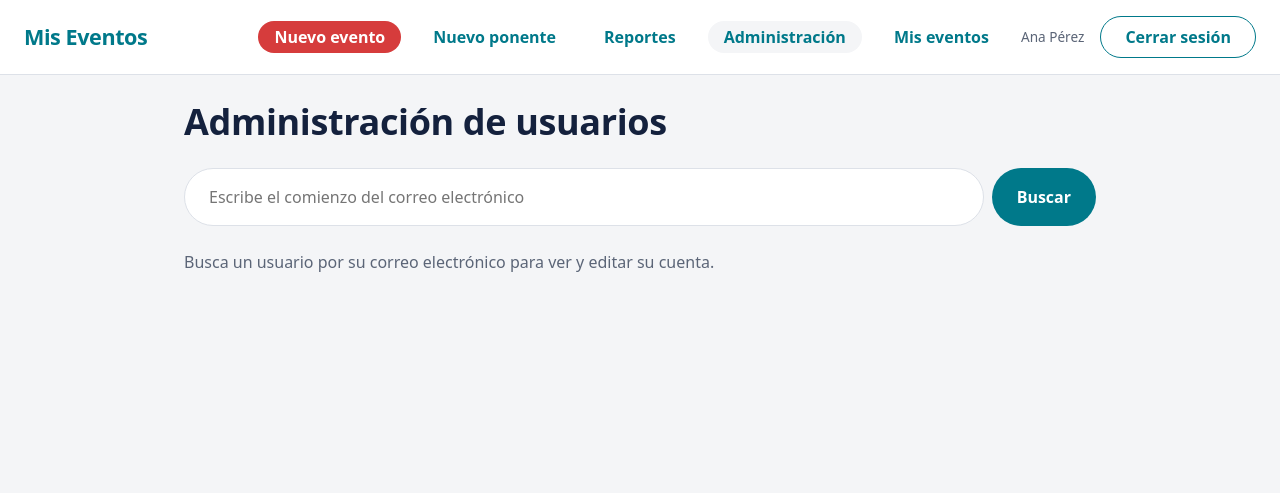
Scenario: AdminUsersPage search › loads the requested page of the same search with the pagination controls
Type "b" into the search field named "Correo electrónico del usuario" at [584, 197], box [184,168,984,226]
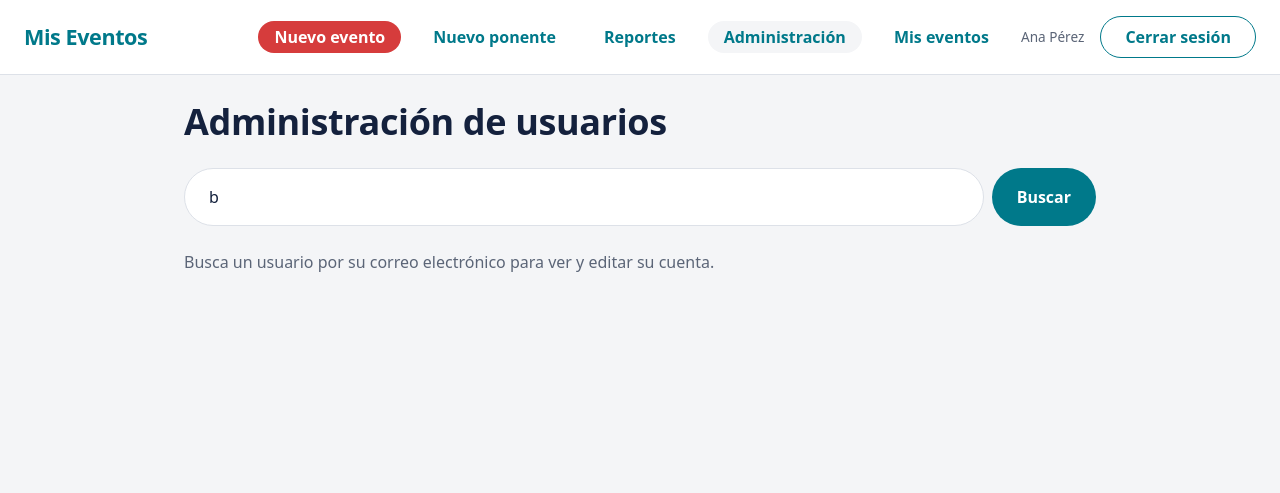
Click the button "Buscar" at [1044, 197], box [992,168,1096,226]
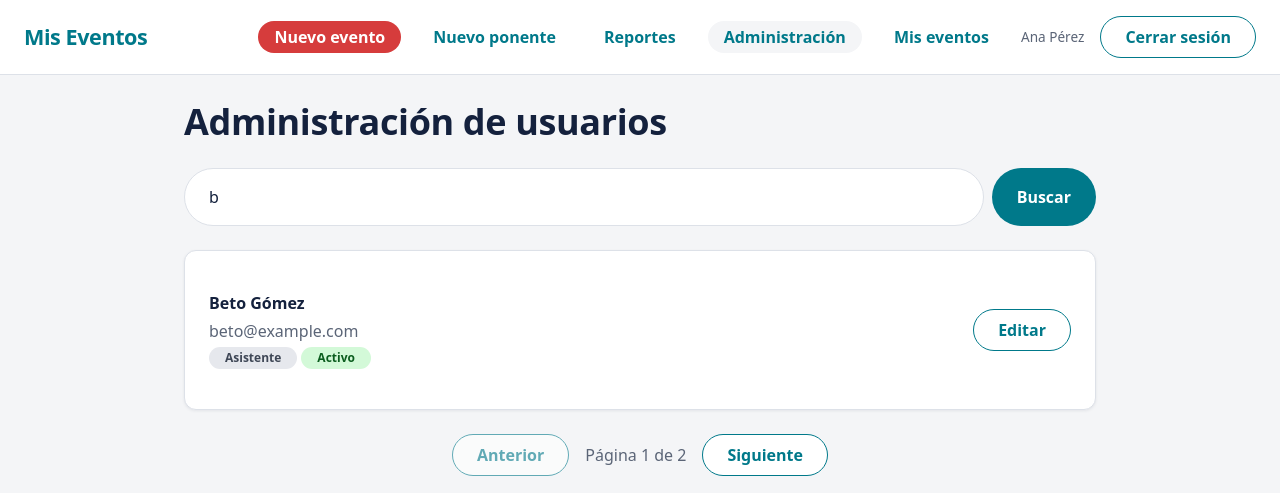
Now the text "Beto Gómez" is shown, box [209,292,304,314]
Click the button "Siguiente" at [765, 455], box [702,434,828,476]
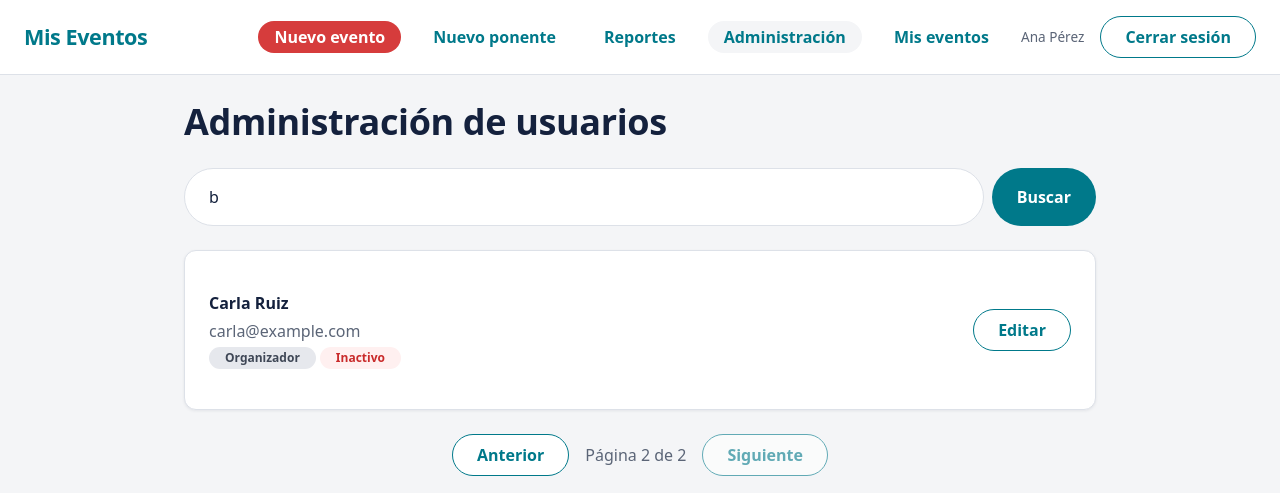
Now the text "Carla Ruiz" is shown, box [209,292,289,314]
Now the text "Página 2 de 2" is shown, box [585,443,686,467]
